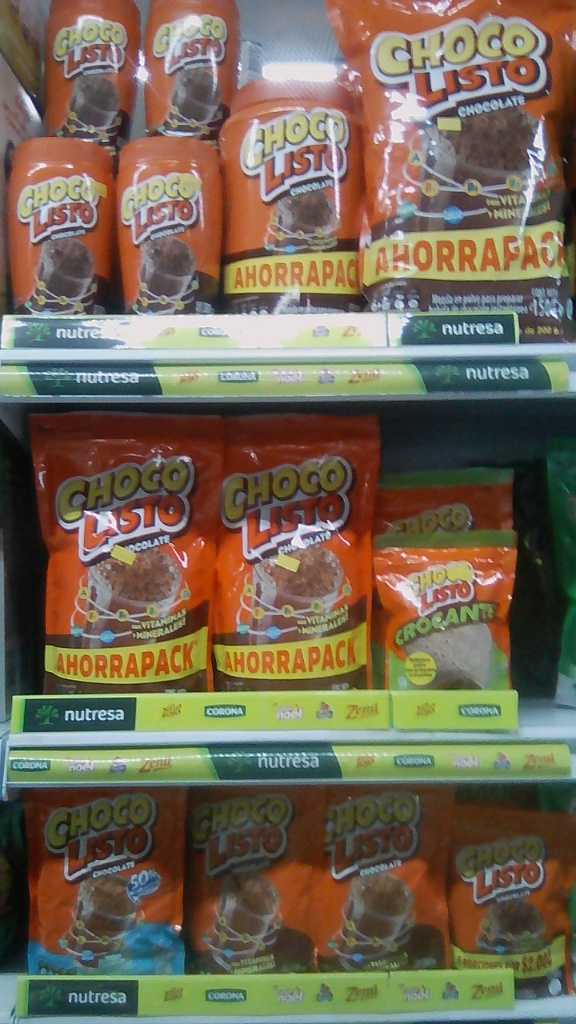COL0170102DYP10000: (372, 528, 514, 702)
COL0170103DYP1,500: (341, 0, 576, 345)
COL0170103DYP10000: (452, 798, 574, 1014)
COL0170103DYP20000: (185, 781, 315, 975)
COL0170103DYP44000: (30, 405, 211, 699)
COL0170103TRR00100: (212, 75, 364, 313)
COL0170103TRR30000: (33, 0, 141, 139)
COL0170104DYP20000: (28, 792, 183, 976)
